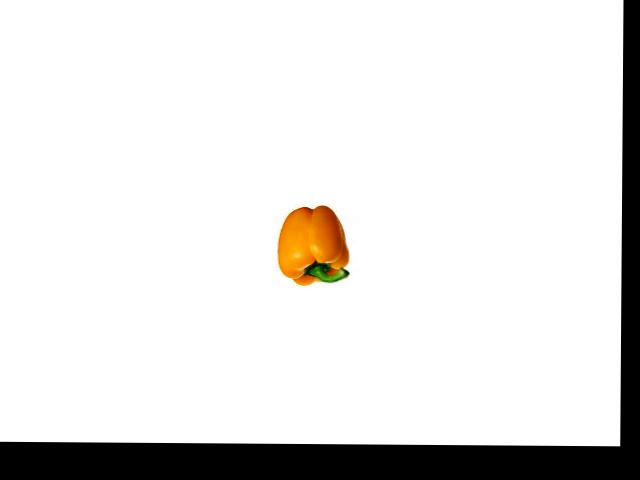bell_pepper: (271, 202, 357, 292)
